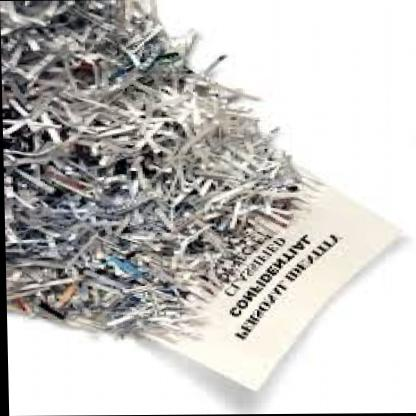Paper: (1, 0, 320, 356)
